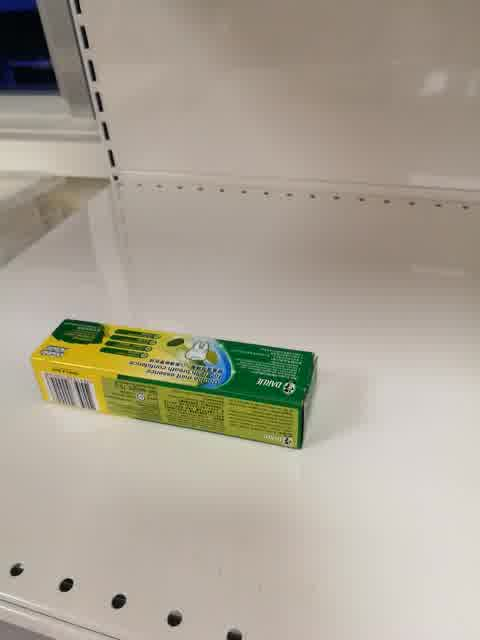toothpaste: (28, 315, 320, 453)
